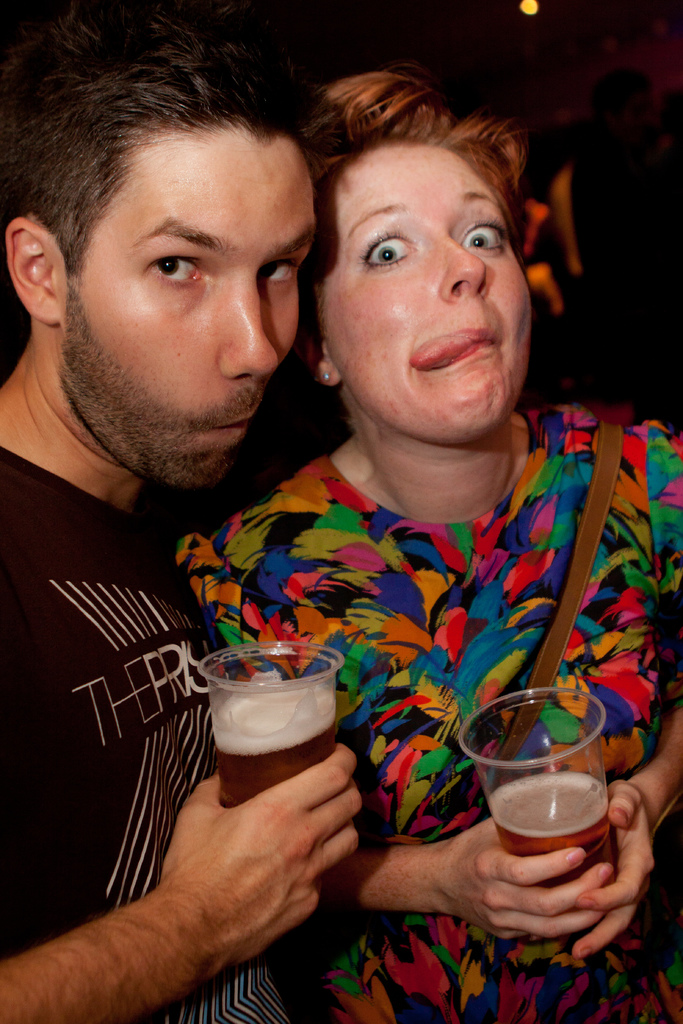Beer: (211, 677, 335, 812), (489, 771, 608, 906)
